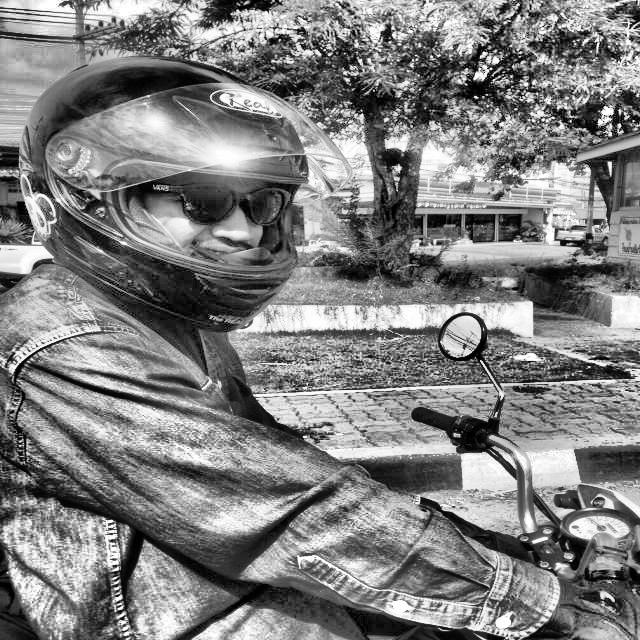Helmet: (10, 46, 369, 344)
